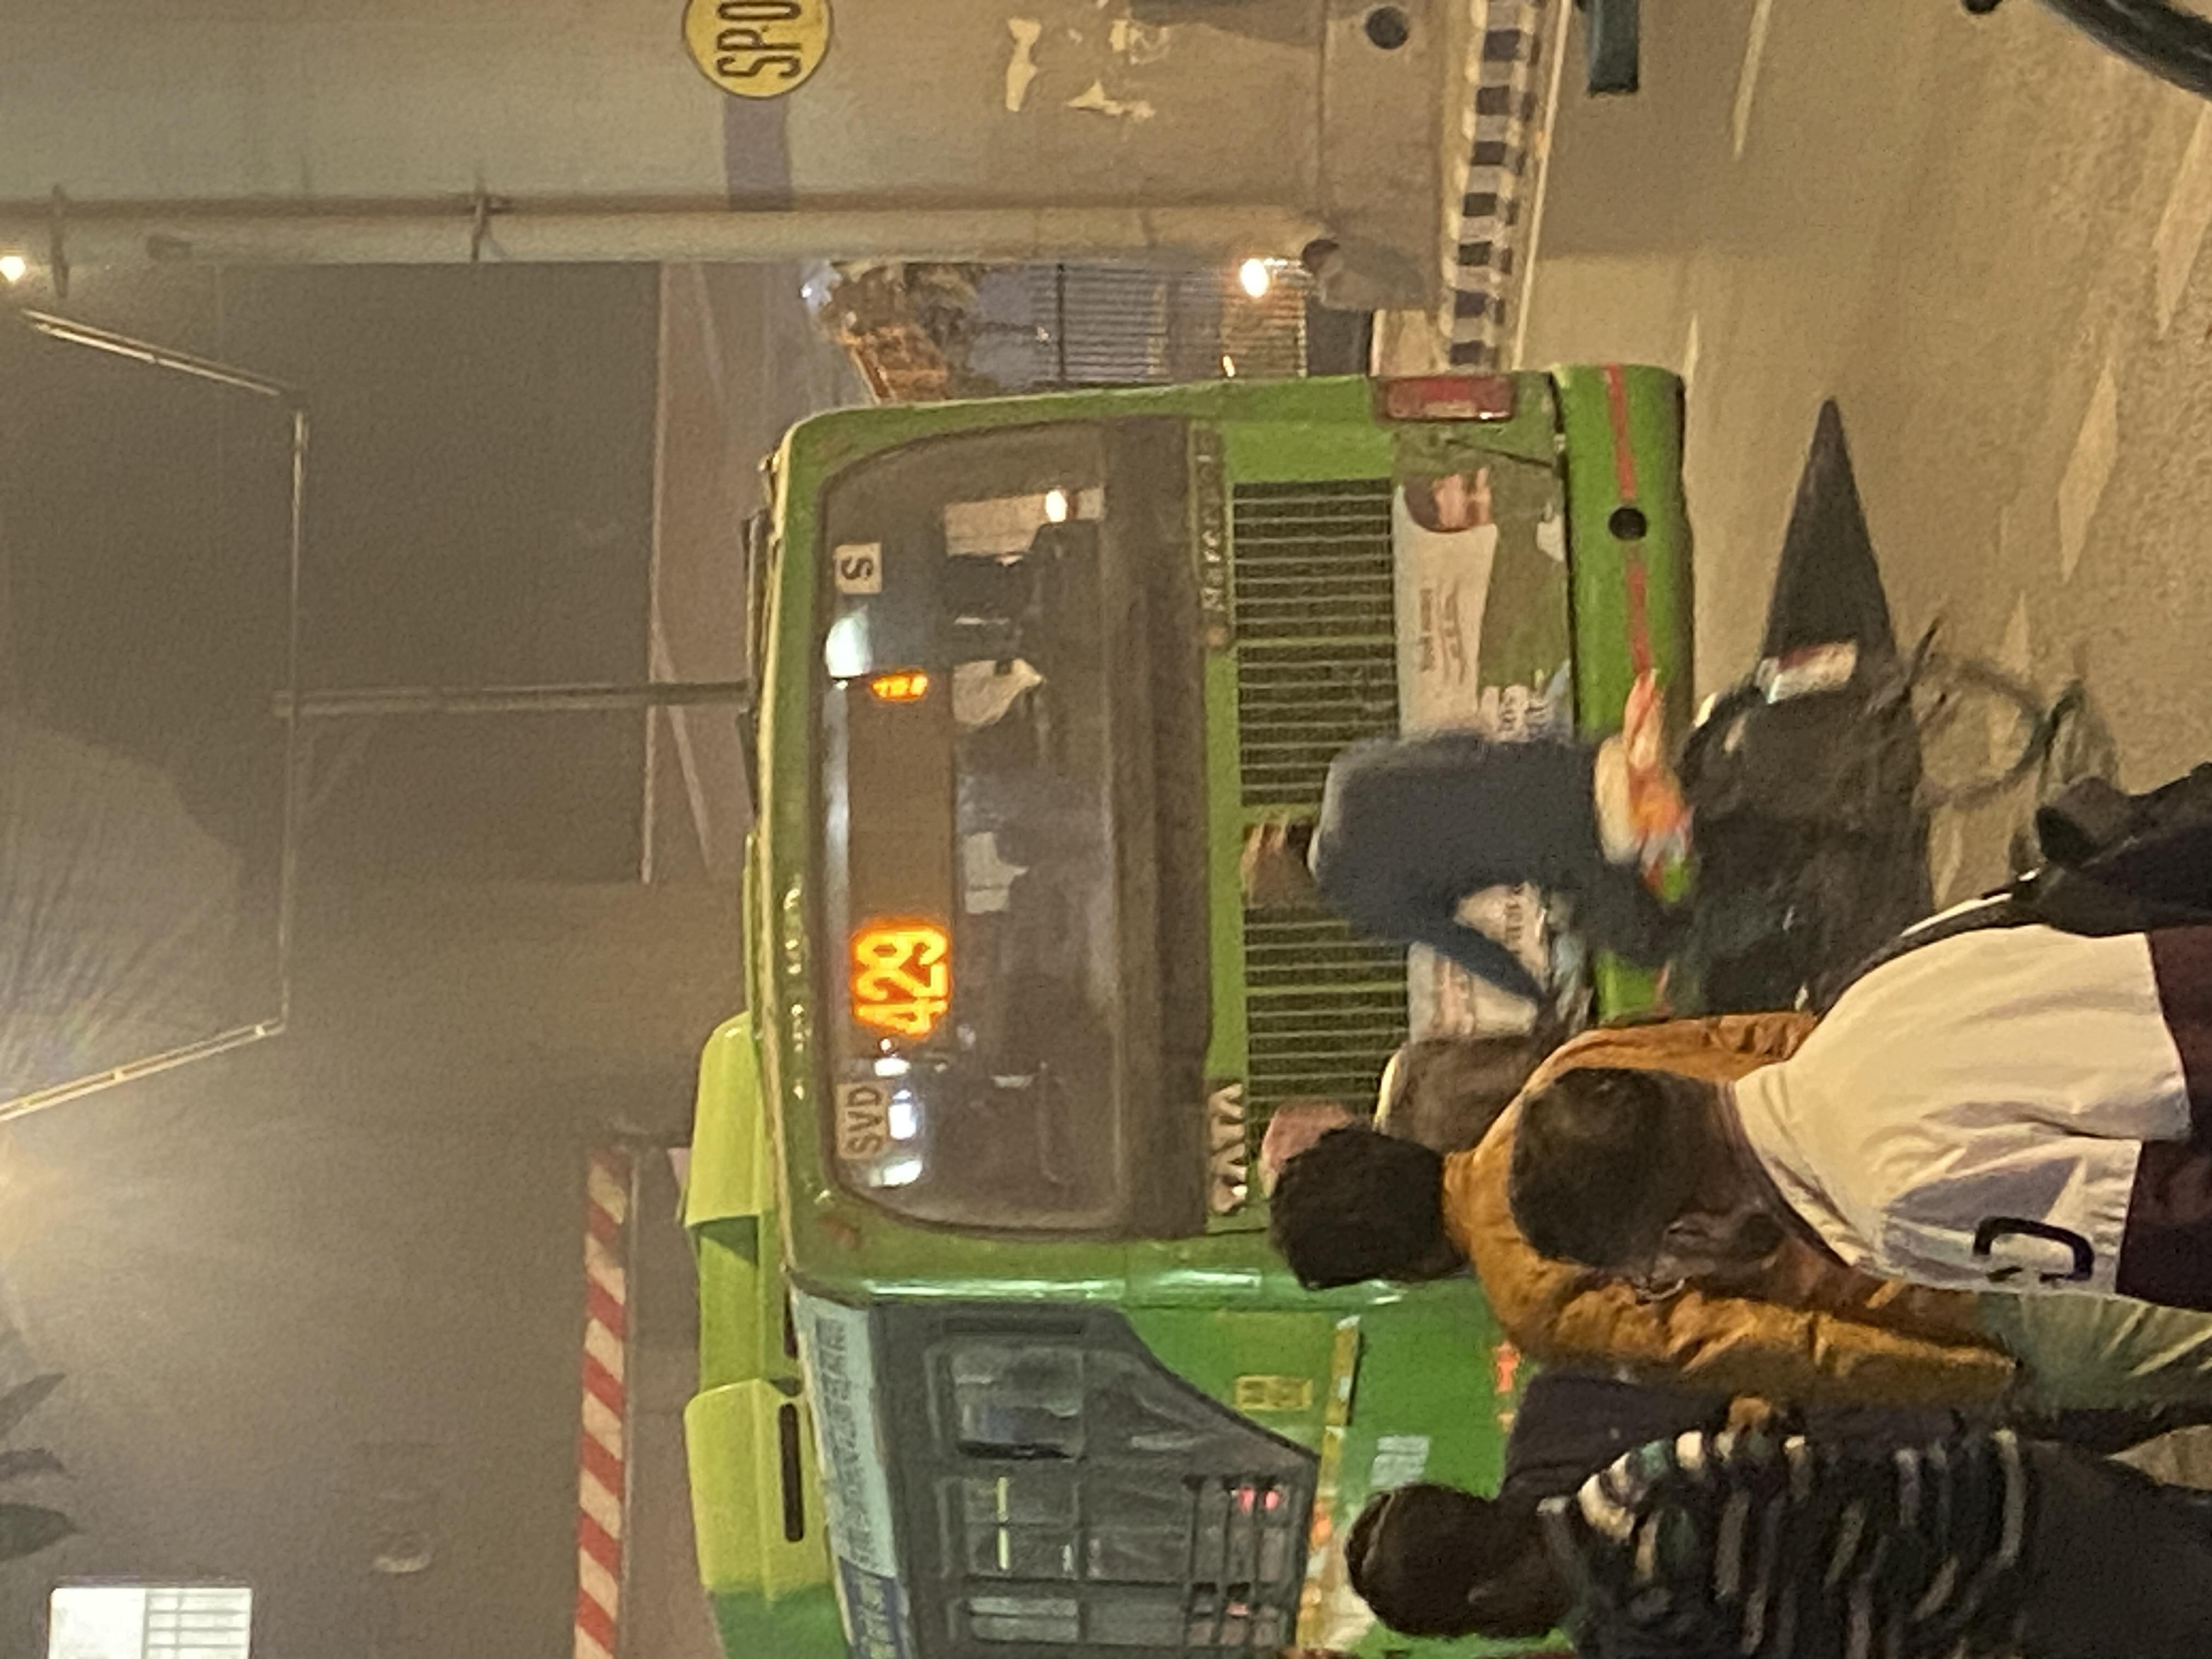Bus: (697, 340, 1817, 1405)
Display Board: (817, 631, 1015, 1108)
